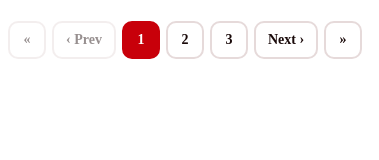
Test: Pagination › moves between pages and marks the current one
The image size is (379, 160).
Expected: the button "‹ Prev" is disabled, [52,21,116,59]
Step 1. Click the button "Next ›" → (286, 40), box [254,21,318,59]
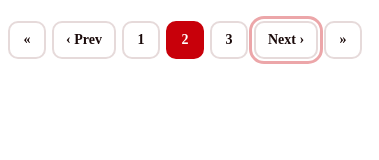
Expected: the button named "Page 2" is marked as current, [166,21,204,59]
Step 2. Click the button named "Last page" → (343, 40), box [324,21,362,59]
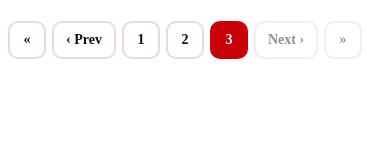
Expected: the button "Next ›" is disabled, [254,21,318,59]
